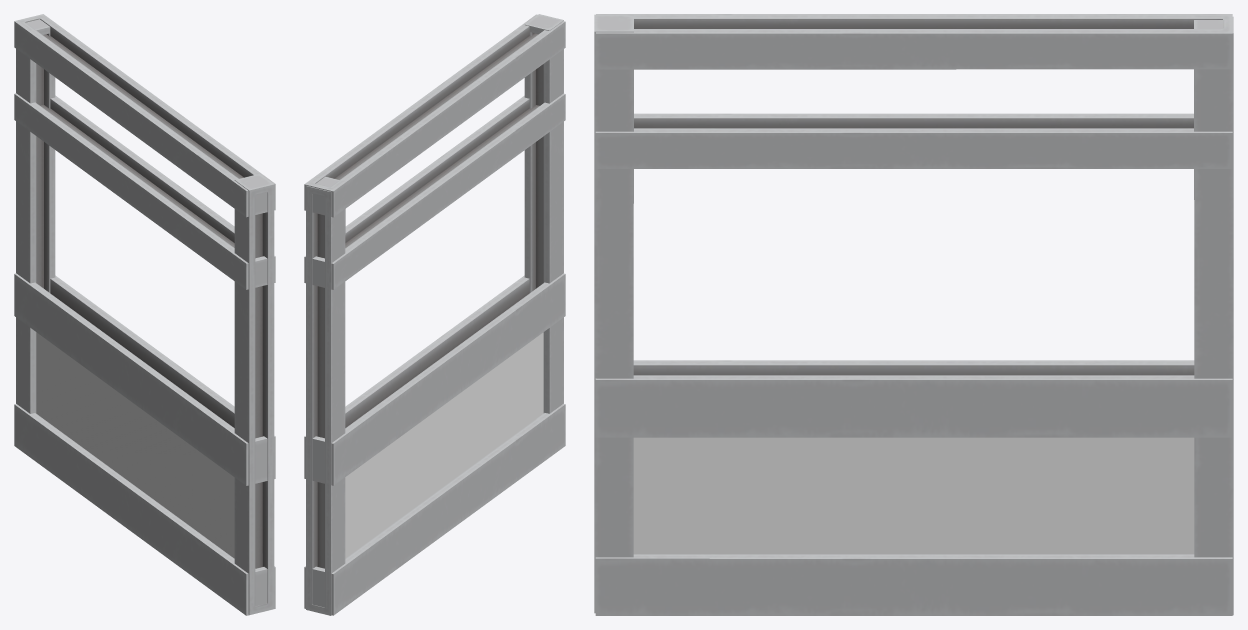
The model's file is Pfb_GlassWall__6.fbx.
3 views of the same model, side by side, from view 1: azimuth 30°, elevation 25°; view 2: azimuth 150°, elevation 25°; view 3: azimuth 270°, elevation 25° (orthographic). The views are drawn at different scales.
Visible parts, largest first — view 1: Mat_SteelFrame_01 7, Duck 6; view 2: Mat_SteelFrame_01 7, Duck 6; view 3: Mat_SteelFrame_01 7, Duck 6.
Part boxes in pixels (x1,y1,x2,y2): Mat_SteelFrame_01 7: [14, 14, 275, 615]; Duck 6: [36, 332, 234, 558]; Mat_SteelFrame_01 7: [304, 14, 565, 615]; Duck 6: [345, 332, 543, 558]; Mat_SteelFrame_01 7: [594, 14, 1233, 615]; Duck 6: [633, 437, 1194, 554].
Bounding box in the file's own units: 0.2893 × 4.01 × 3.98.
Materials: 2 (2 with a texture image).
